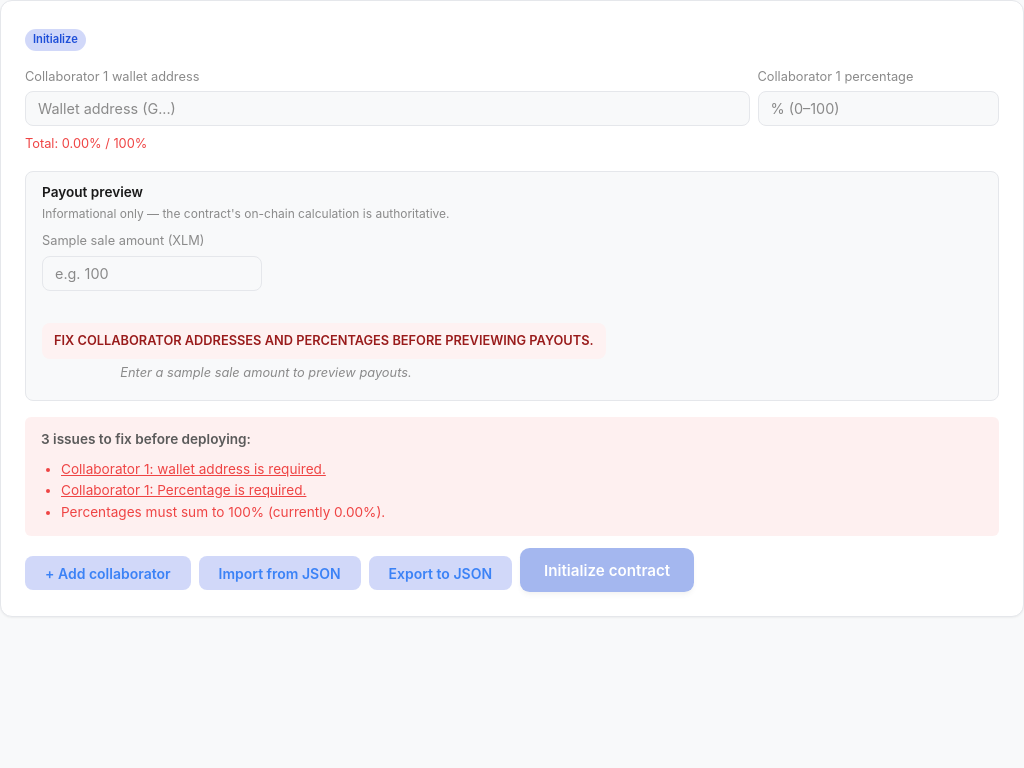
Scenario: InitializeForm validation summary › updates the summary in real time as fields change
Expected: the message with test id "validation-summary-status" shows "issue", [50,431,88,447]
Type "GAAZI4TCR3TY5OJHCTJC2A4QSY6CJWJH5IAJTGKIN2ER7LBNVKOCCWNA" into the field labelled "Collaborator 1 wallet address". click: [387, 109]
box: [25,91,750,126]
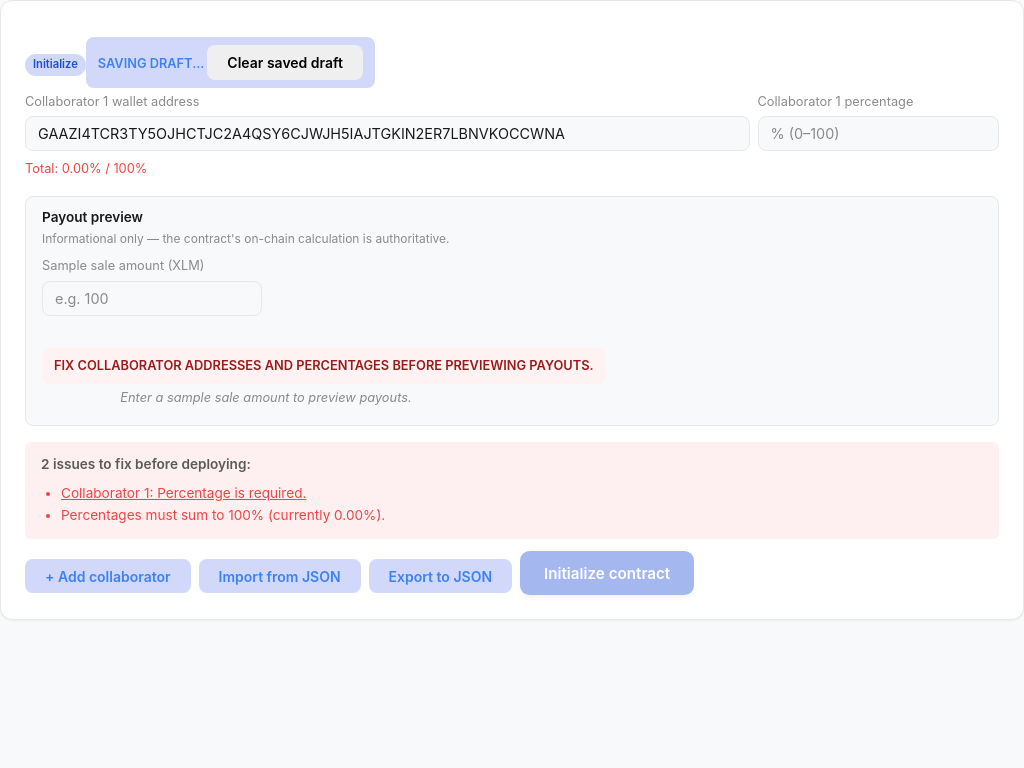
Type "100" into the number field labelled "Collaborator 1 percentage". click: [878, 134]
box: [758,116,999,151]
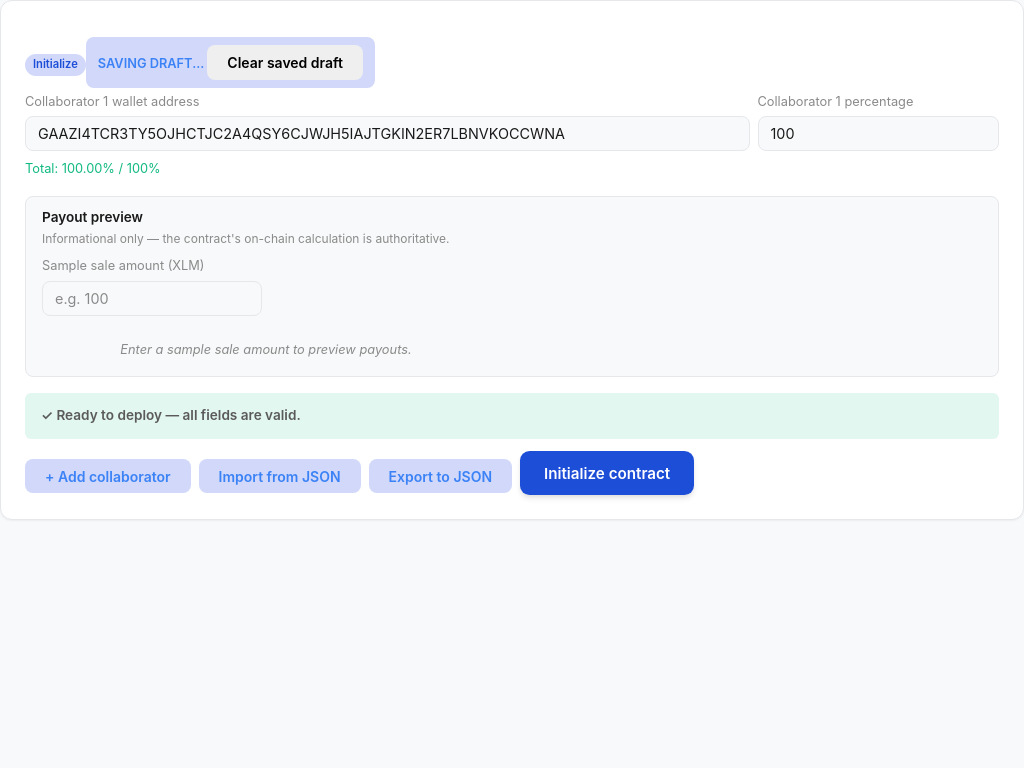
Result: the text with test id "validation-summary-status" shows "Ready to deploy" at [41,407,301,423]
Replace the text in the number field labelled "Collaborator 1 percentage" with "50". click: [878, 134]
box: [758,116,999,151]
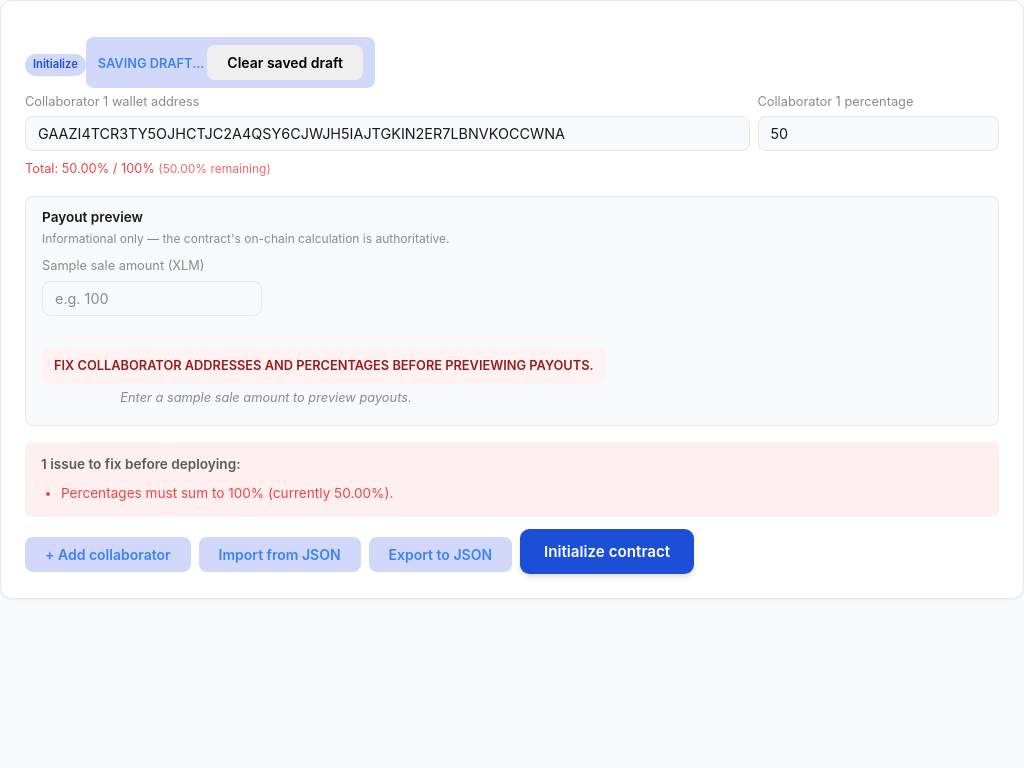
Result: the message with test id "validation-summary-status" shows "issue" at [47,456,85,472]
